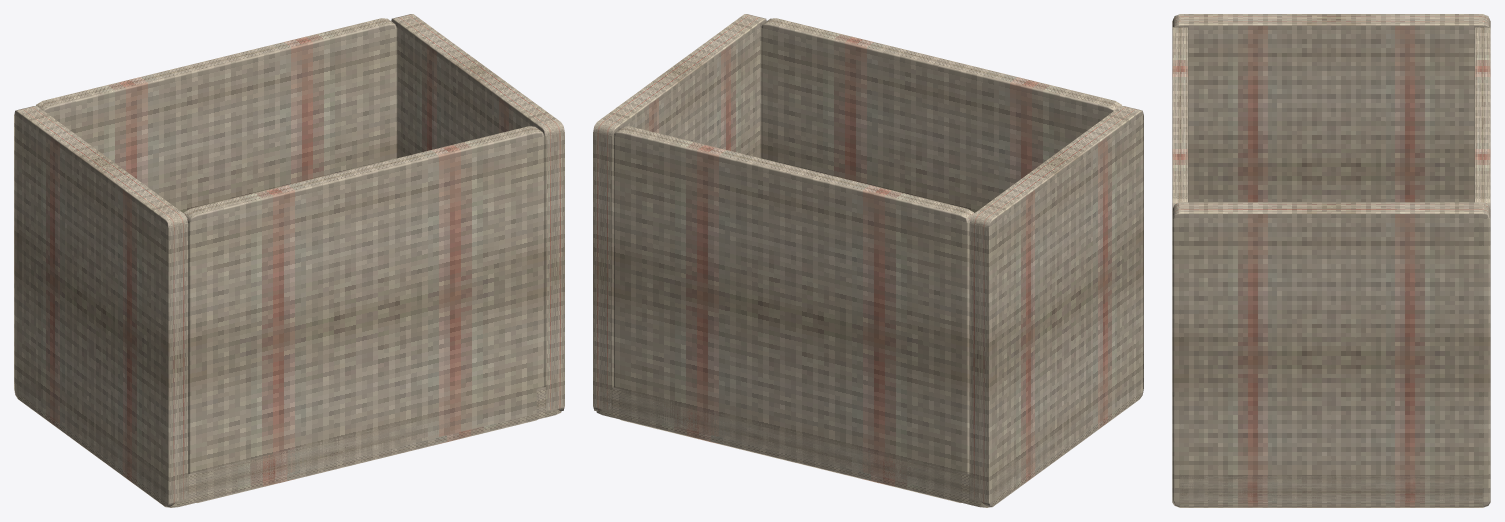
The model's file is basket.glb.
3 views of the same model, side by side, from view 1: azimuth 30°, elevation 25°; view 2: azimuth 150°, elevation 25°; view 3: azimuth 270°, elevation 25° (orthographic). The views are drawn at different scales.
Visible parts, largest first — view 1: edge (×2), side (×2), bottom; view 2: edge (×2), side (×2), bottom; view 3: side (×2), bottom, edge (×2).
Part boxes in pixels (<box>): edge (×2): <box>36,18,545,502</box>; side (×2): <box>14,14,564,507</box>; bottom: <box>17,369,561,507</box>; edge (×2): <box>612,18,1121,502</box>; side (×2): <box>593,14,1143,507</box>; bottom: <box>596,374,1140,507</box>; side (×2): <box>1172,14,1490,507</box>; bottom: <box>1172,476,1490,507</box>; edge (×2): <box>1172,27,1490,208</box>.
Size of the model in its own units: 0.56 by 0.39 by 0.38.
Materials: 1 (1 with a texture image).
